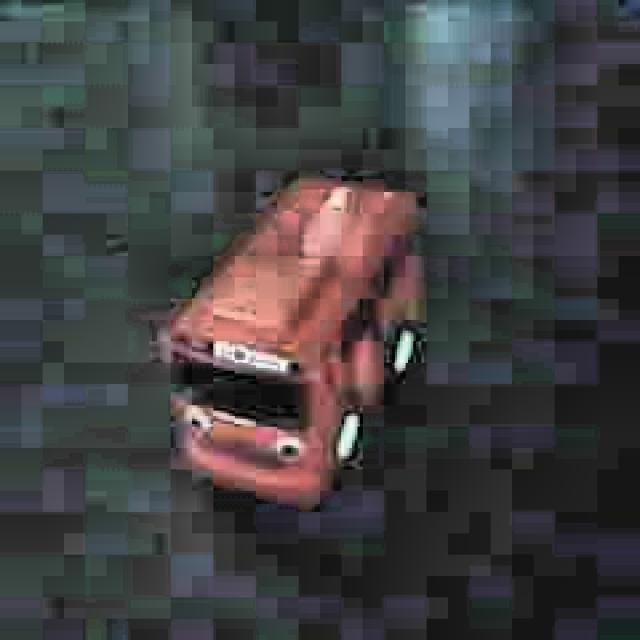bus: (138, 158, 435, 528)
